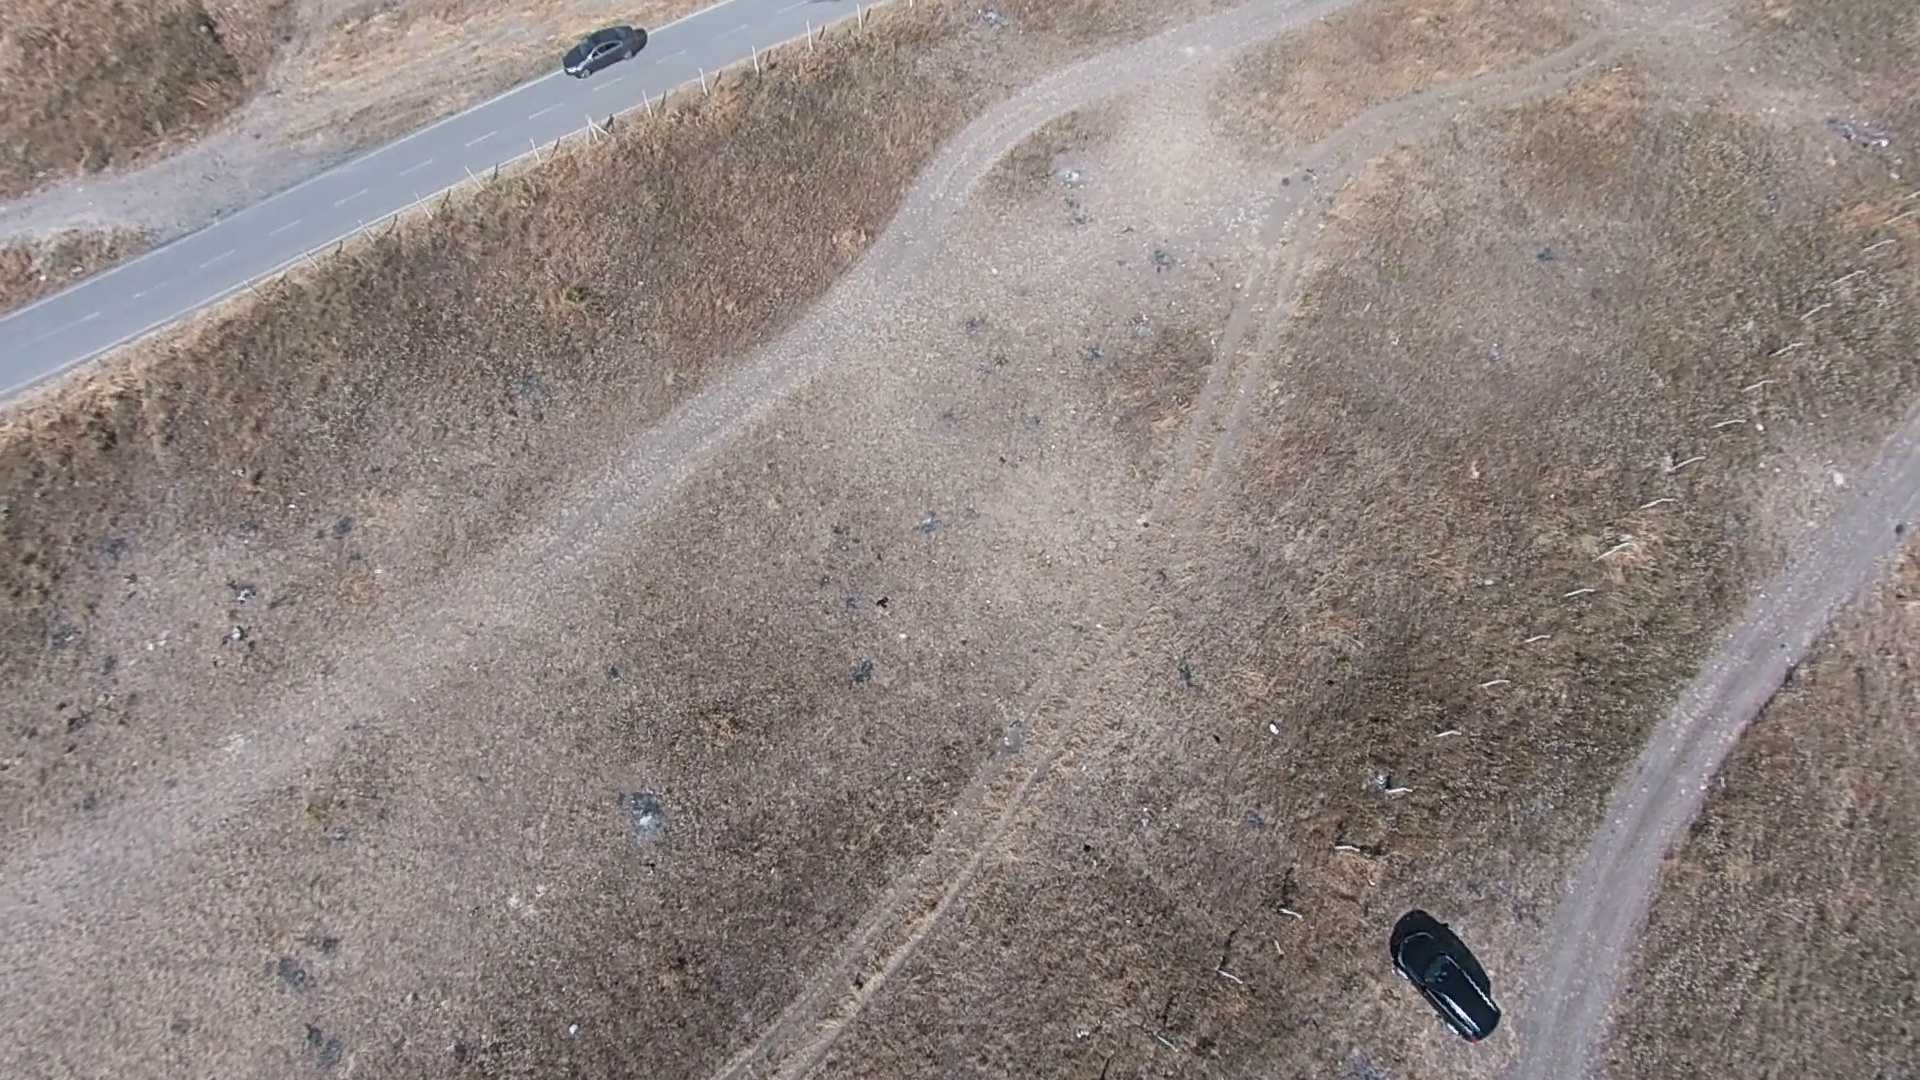araba: (1394, 919, 1501, 1040), (562, 20, 647, 78)
